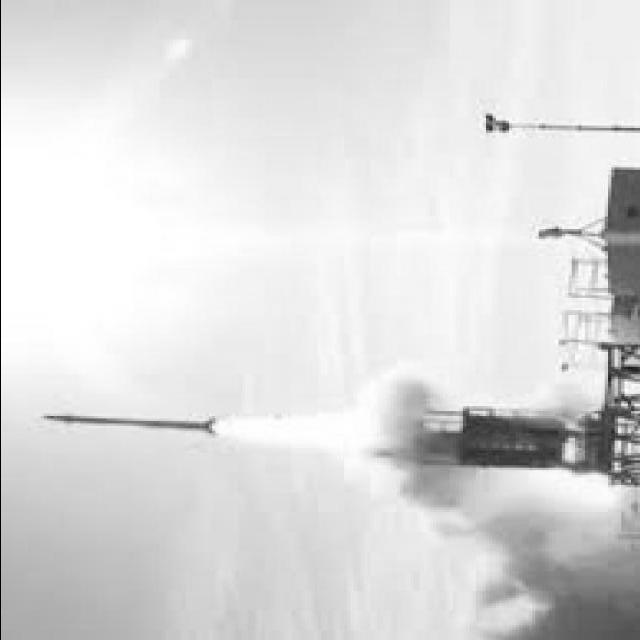missile: (28, 411, 224, 433)
